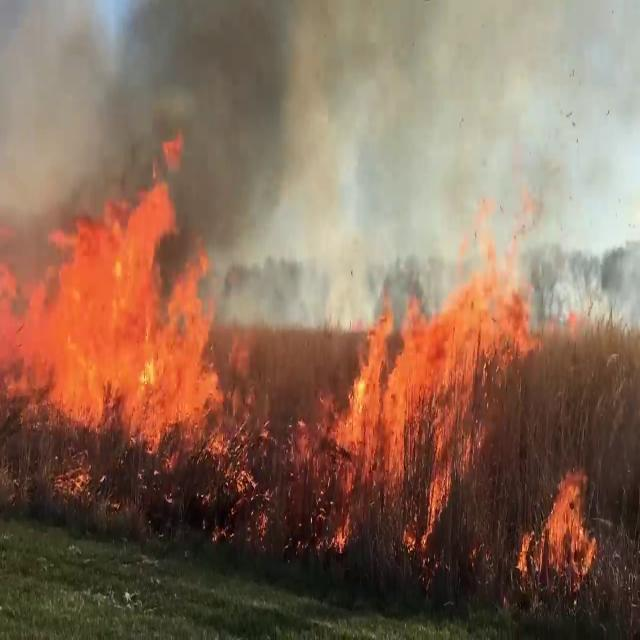Fire: (0, 175, 234, 452), (316, 260, 486, 554), (532, 462, 600, 585)
Smoke: (318, 0, 640, 322), (0, 0, 322, 287)
